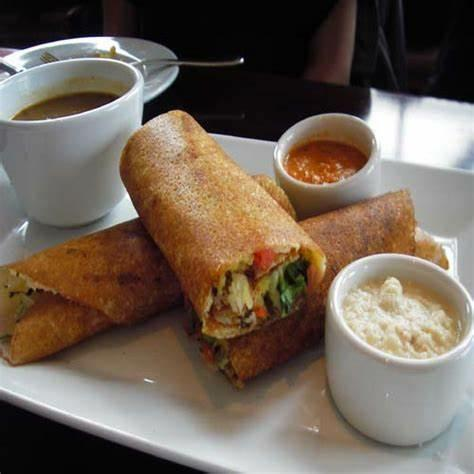Dosa: (0, 174, 296, 367), (186, 190, 449, 385), (120, 109, 328, 339)
